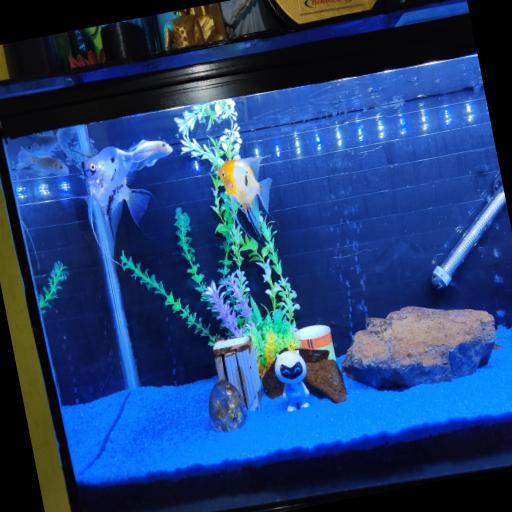Fish: (82, 140, 172, 257), (219, 157, 272, 236), (17, 148, 69, 175), (28, 132, 58, 154)
